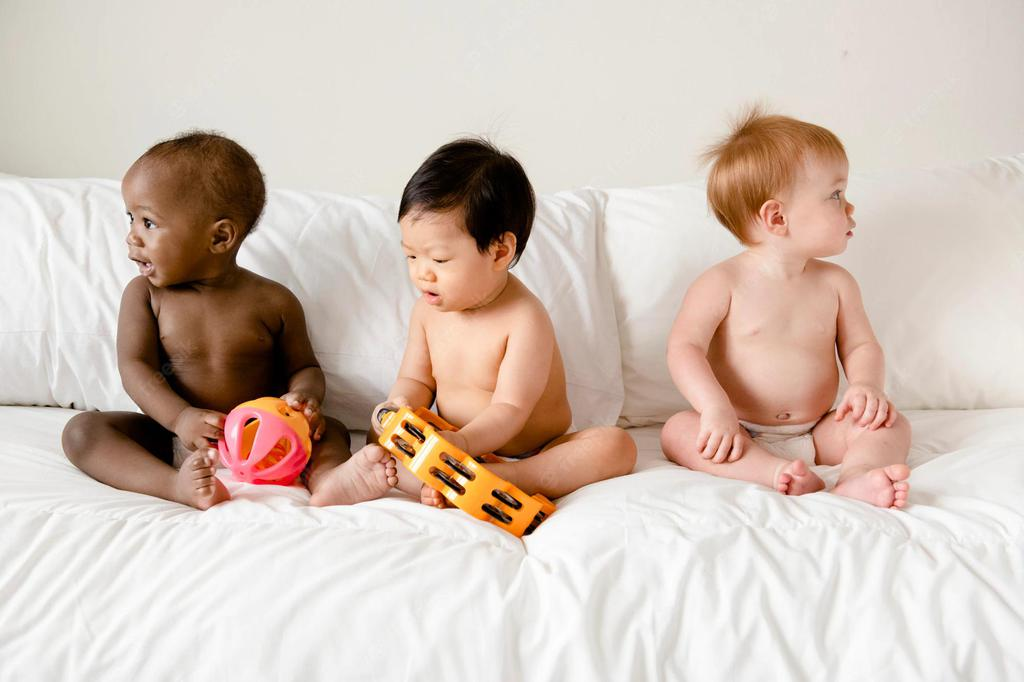child: (54, 128, 397, 515), (313, 127, 644, 512), (638, 105, 924, 515)
